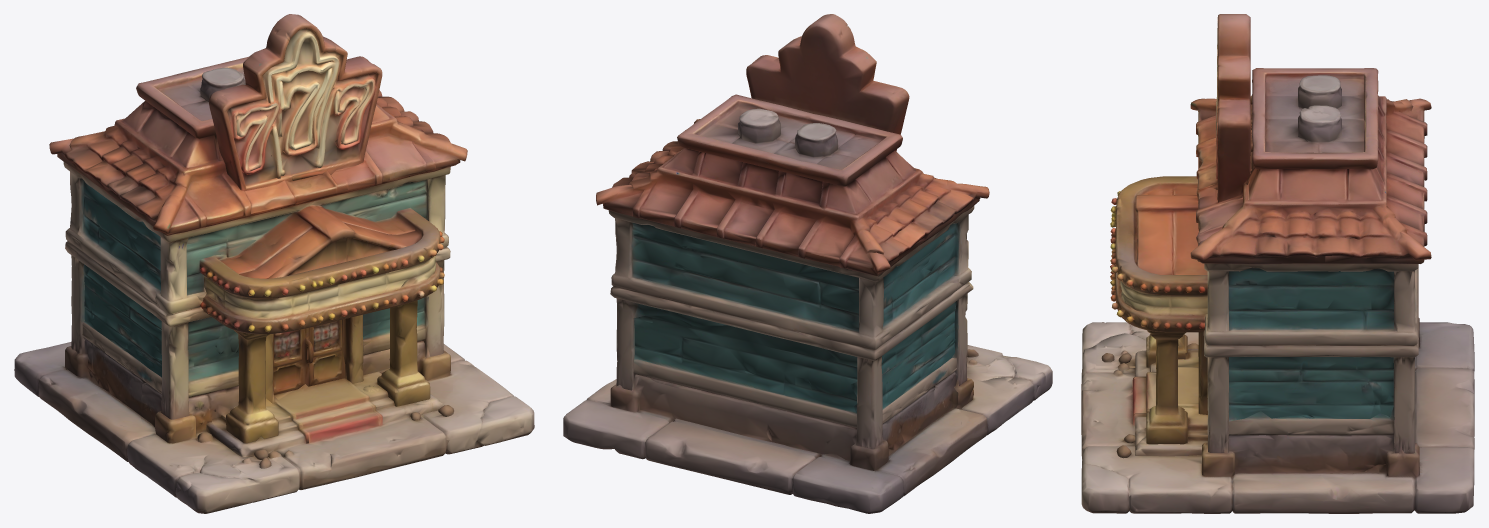
File: casino.glb
3 views of the same model, side by side, from view 1: azimuth 30°, elevation 25°; view 2: azimuth 150°, elevation 25°; view 3: azimuth 270°, elevation 25° (orthographic). The views are drawn at different scales.
Visible parts, largest first — view 1: tripo_part_1, tripo_part_0, tripo_part_3, tripo_part_5, tripo_part_2, tripo_part_6, tripo_part_4, tripo_part_7, tripo_part_9, tripo_part_12, tripo_part_11, tripo_part_10 (+1 smaller); view 2: tripo_part_0, tripo_part_1, tripo_part_14, tripo_part_4, tripo_part_2, tripo_part_6, tripo_part_8, tripo_part_5, tripo_part_7, tripo_part_9; view 3: tripo_part_0, tripo_part_4, tripo_part_1, tripo_part_3, tripo_part_5, tripo_part_13, tripo_part_2, tripo_part_8, tripo_part_12, tripo_part_15, tripo_part_6, tripo_part_16.
Part boxes in pixels (left/top/right/bottom): tripo_part_1: left=63, top=164, right=450, bottom=419; tripo_part_0: left=49, top=56, right=467, bottom=235; tripo_part_3: left=199, top=205, right=444, bottom=443; tripo_part_5: left=127, top=366, right=449, bottom=513; tripo_part_2: left=209, top=14, right=382, bottom=191; tripo_part_6: left=14, top=342, right=238, bottom=461; tripo_part_4: left=362, top=341, right=534, bottom=454; tripo_part_7: left=65, top=322, right=161, bottom=426; tripo_part_9: left=83, top=264, right=161, bottom=377; tripo_part_12: left=377, top=300, right=430, bottom=406; tripo_part_11: left=273, top=328, right=313, bottom=399; tripo_part_10: left=309, top=319, right=345, bottom=386; tripo_part_0: left=596, top=94, right=989, bottom=277; tripo_part_1: left=608, top=206, right=974, bottom=449; tripo_part_14: left=633, top=315, right=857, bottom=427; tripo_part_4: left=563, top=374, right=856, bottom=460; tripo_part_2: left=746, top=14, right=909, bottom=151; tripo_part_6: left=675, top=377, right=988, bottom=513; tripo_part_8: left=645, top=420, right=815, bottom=494; tripo_part_5: left=962, top=345, right=1052, bottom=435; tripo_part_7: left=846, top=358, right=958, bottom=470; tripo_part_9: left=881, top=301, right=956, bottom=409; tripo_part_0: left=1190, top=68, right=1431, bottom=264; tripo_part_4: left=1081, top=435, right=1474, bottom=513; tripo_part_1: left=1203, top=263, right=1418, bottom=453; tripo_part_3: left=1110, top=176, right=1207, bottom=367; tripo_part_5: left=1081, top=322, right=1207, bottom=459; tripo_part_13: left=1228, top=357, right=1393, bottom=421; tripo_part_2: left=1207, top=14, right=1253, bottom=202; tripo_part_8: left=1415, top=366, right=1474, bottom=449; tripo_part_12: left=1146, top=330, right=1187, bottom=444; tripo_part_15: left=1229, top=407, right=1394, bottom=435; tripo_part_6: left=1188, top=322, right=1474, bottom=371; tripo_part_16: left=1198, top=332, right=1207, bottom=414.
Bounding box in the file's own units: 0.8641 × 0.9775 × 0.8412.
Materials: 1 (1 with a texture image).
